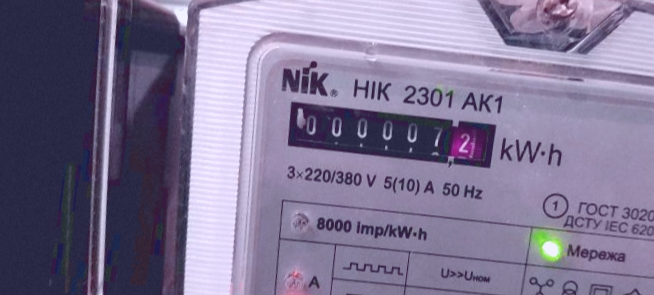0: (303, 110, 320, 136), (380, 117, 397, 141), (329, 113, 345, 137), (355, 115, 371, 139), (405, 119, 421, 143)
2: (457, 130, 473, 154)
7: (430, 122, 445, 148)
screen: (275, 86, 508, 180)
